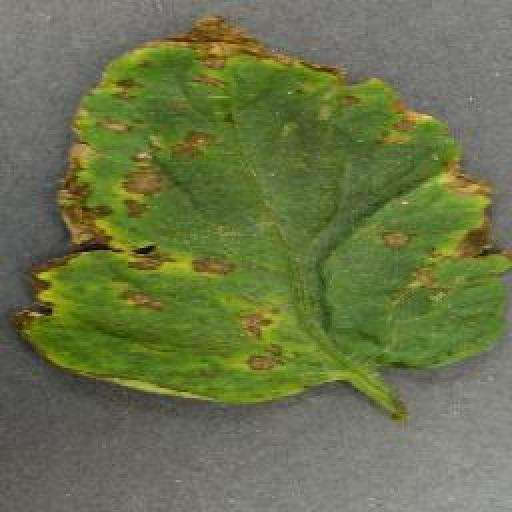Bacterial Spot: (16, 9, 512, 407)
